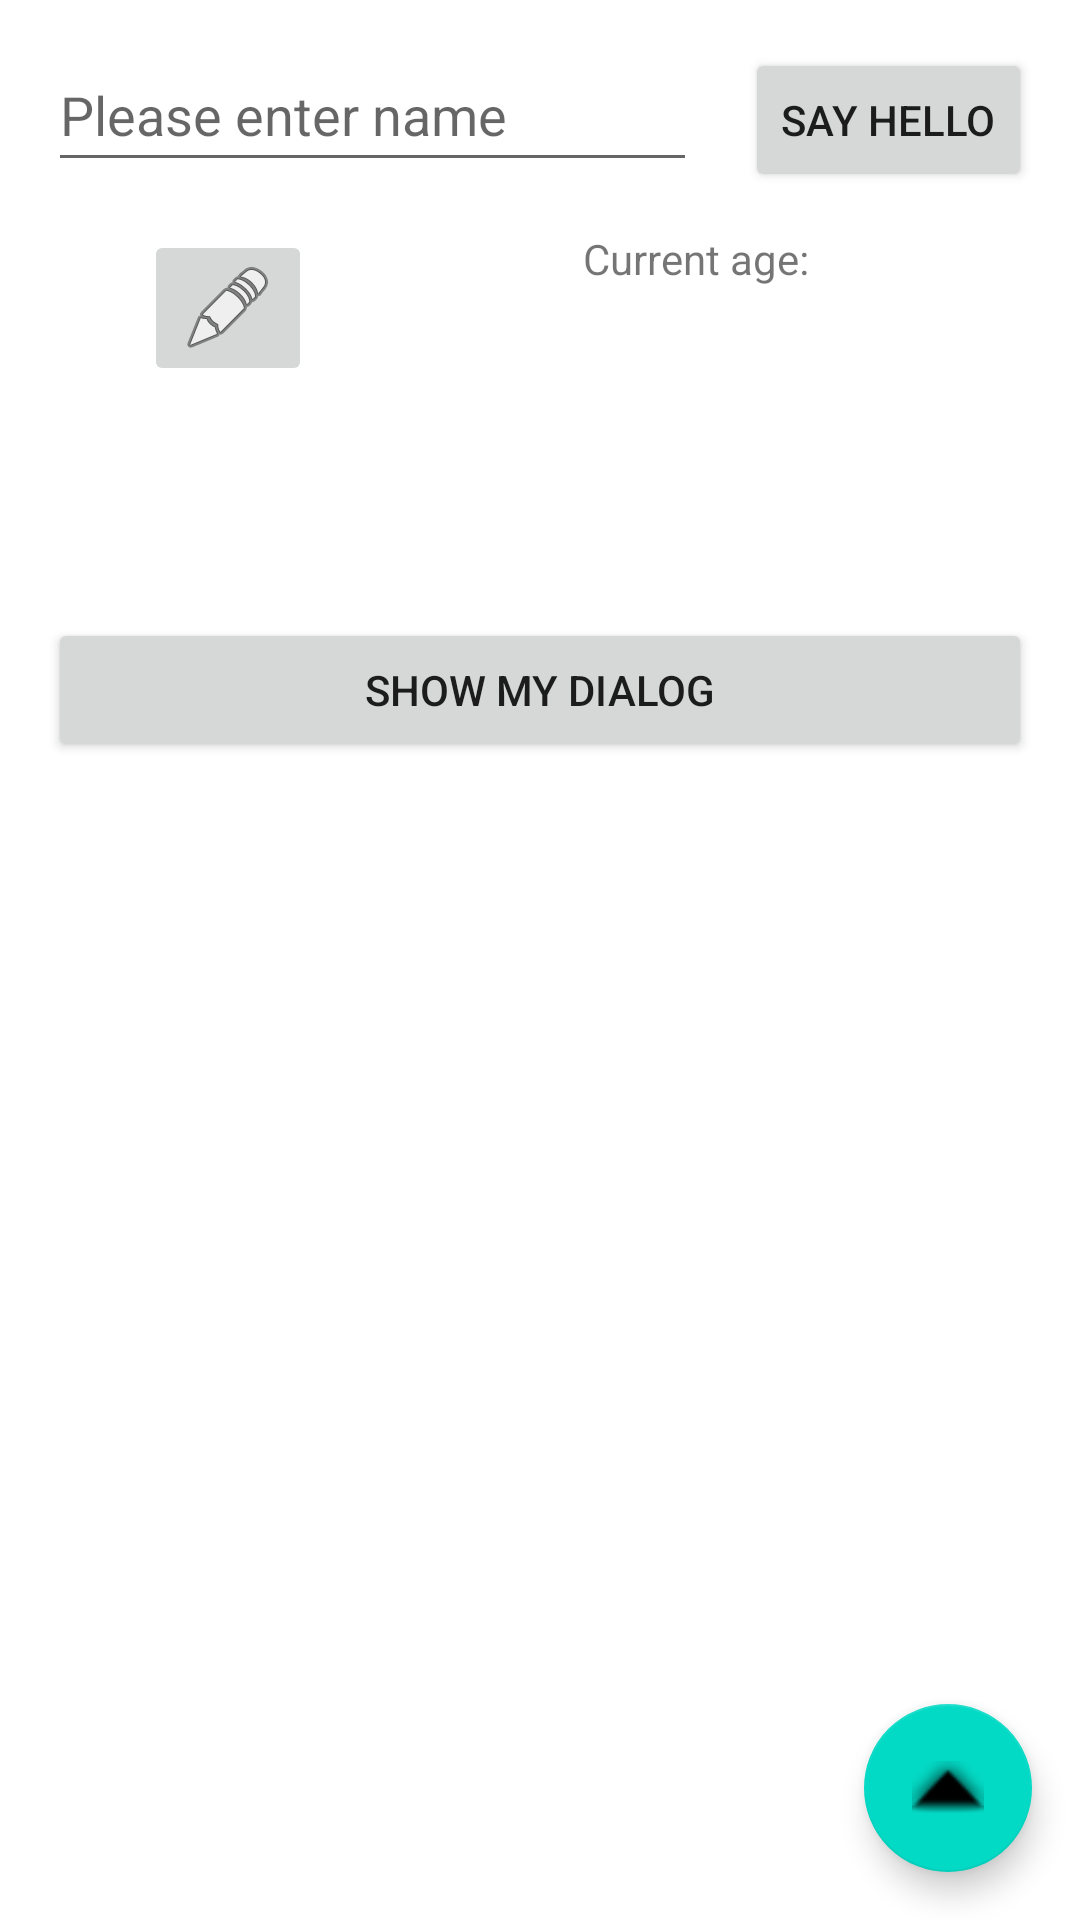

Where icons sit on this 1080px x 1920px app screen, as (x1, y1, x2, y2):
arrow up float: (864, 1704, 1032, 1872)
edit: (156, 248, 300, 368)
